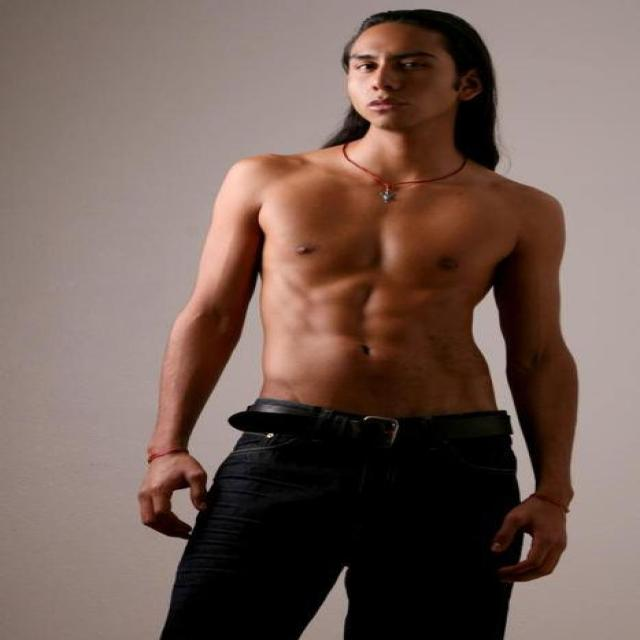mobile_phonerotation: (140, 7, 581, 638)
